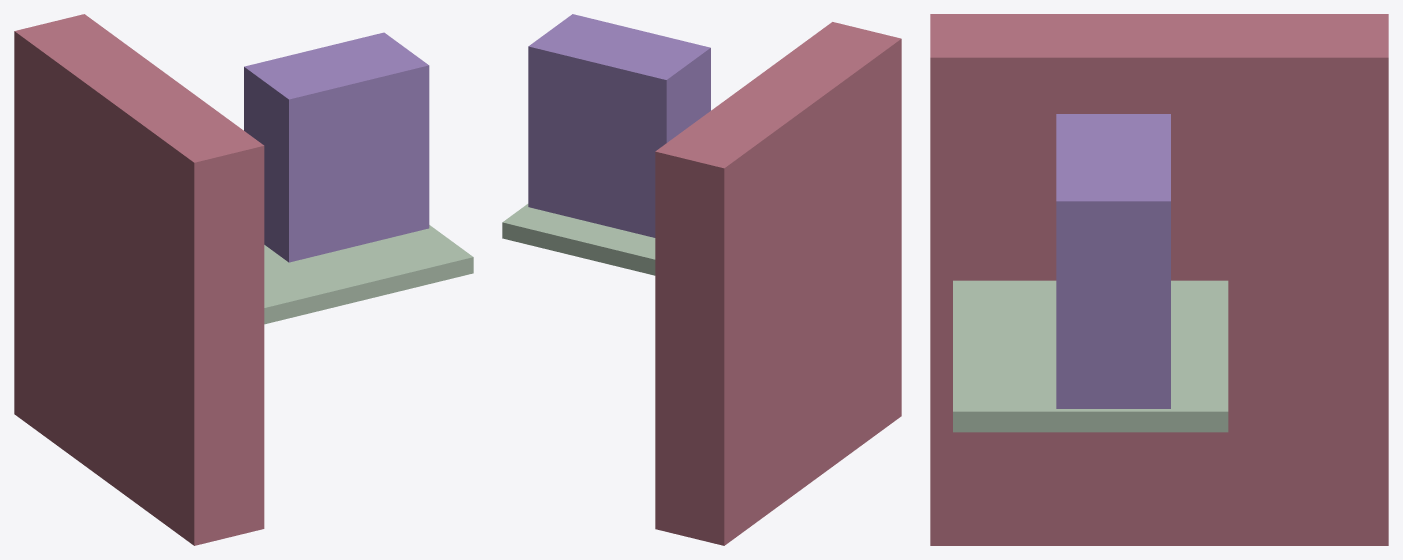
3 renders of one model, left to right at view 1: azimuth 30°, elevation 25°; view 2: azimuth 150°, elevation 25°; view 3: azimuth 270°, elevation 25°, orthographic. The views are drawn at different scales.
Parts seen in each view (by area): view 1: world; view 2: world; view 3: world.
Boxes of the visible parts, left/top/right/bottom form: world: left=14, top=14, right=473, bottom=545; world: left=502, top=14, right=901, bottom=545; world: left=930, top=14, right=1388, bottom=545.
Bounding box in the file's own units: 3.7 × 4.7 × 4.
